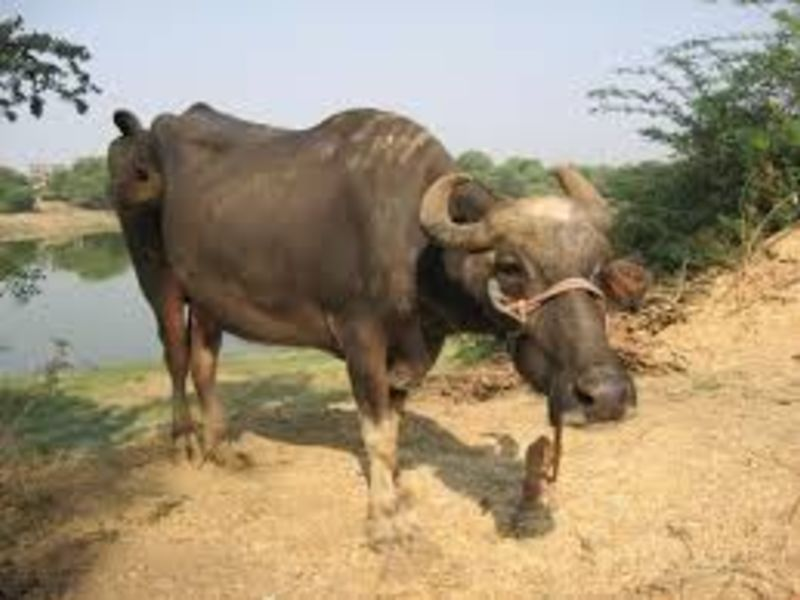buffalo: (102, 98, 644, 558)
